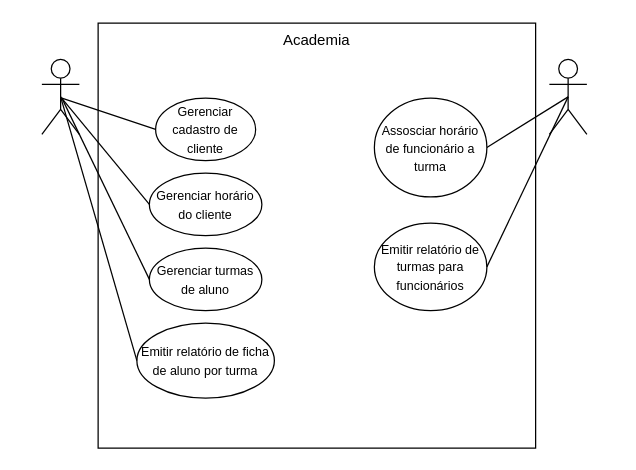
Some shapes in this 636 by 470 pixel diagram are drawn without their labels. The box of each missing label's shape, as (x1, y1, x2, y2) in pixels:
Administrador: (548, 58, 587, 134)
Funcionário: (41, 58, 79, 134)
